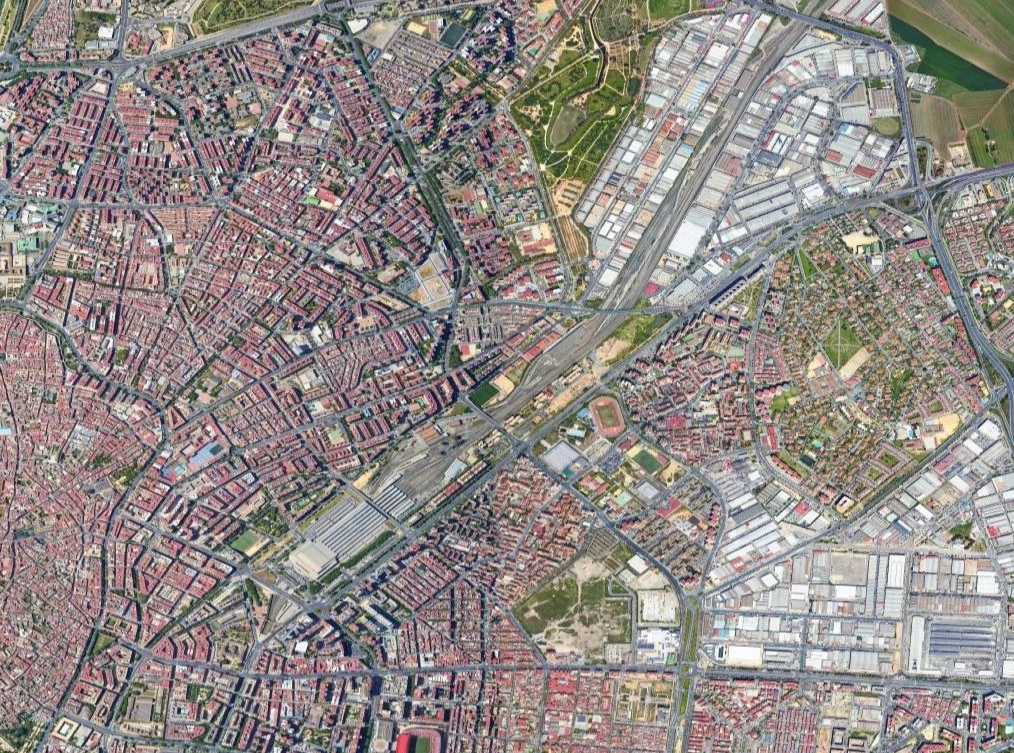bridge: (463, 399, 498, 430)
industrial: (583, 17, 869, 294), (728, 417, 1014, 694)
motorway: (742, 1, 888, 42), (933, 234, 981, 333), (888, 40, 936, 139), (891, 137, 939, 236), (211, 2, 328, 39), (93, 34, 212, 67), (976, 335, 1014, 428), (939, 153, 1014, 198)
train_station: (296, 489, 401, 576)
